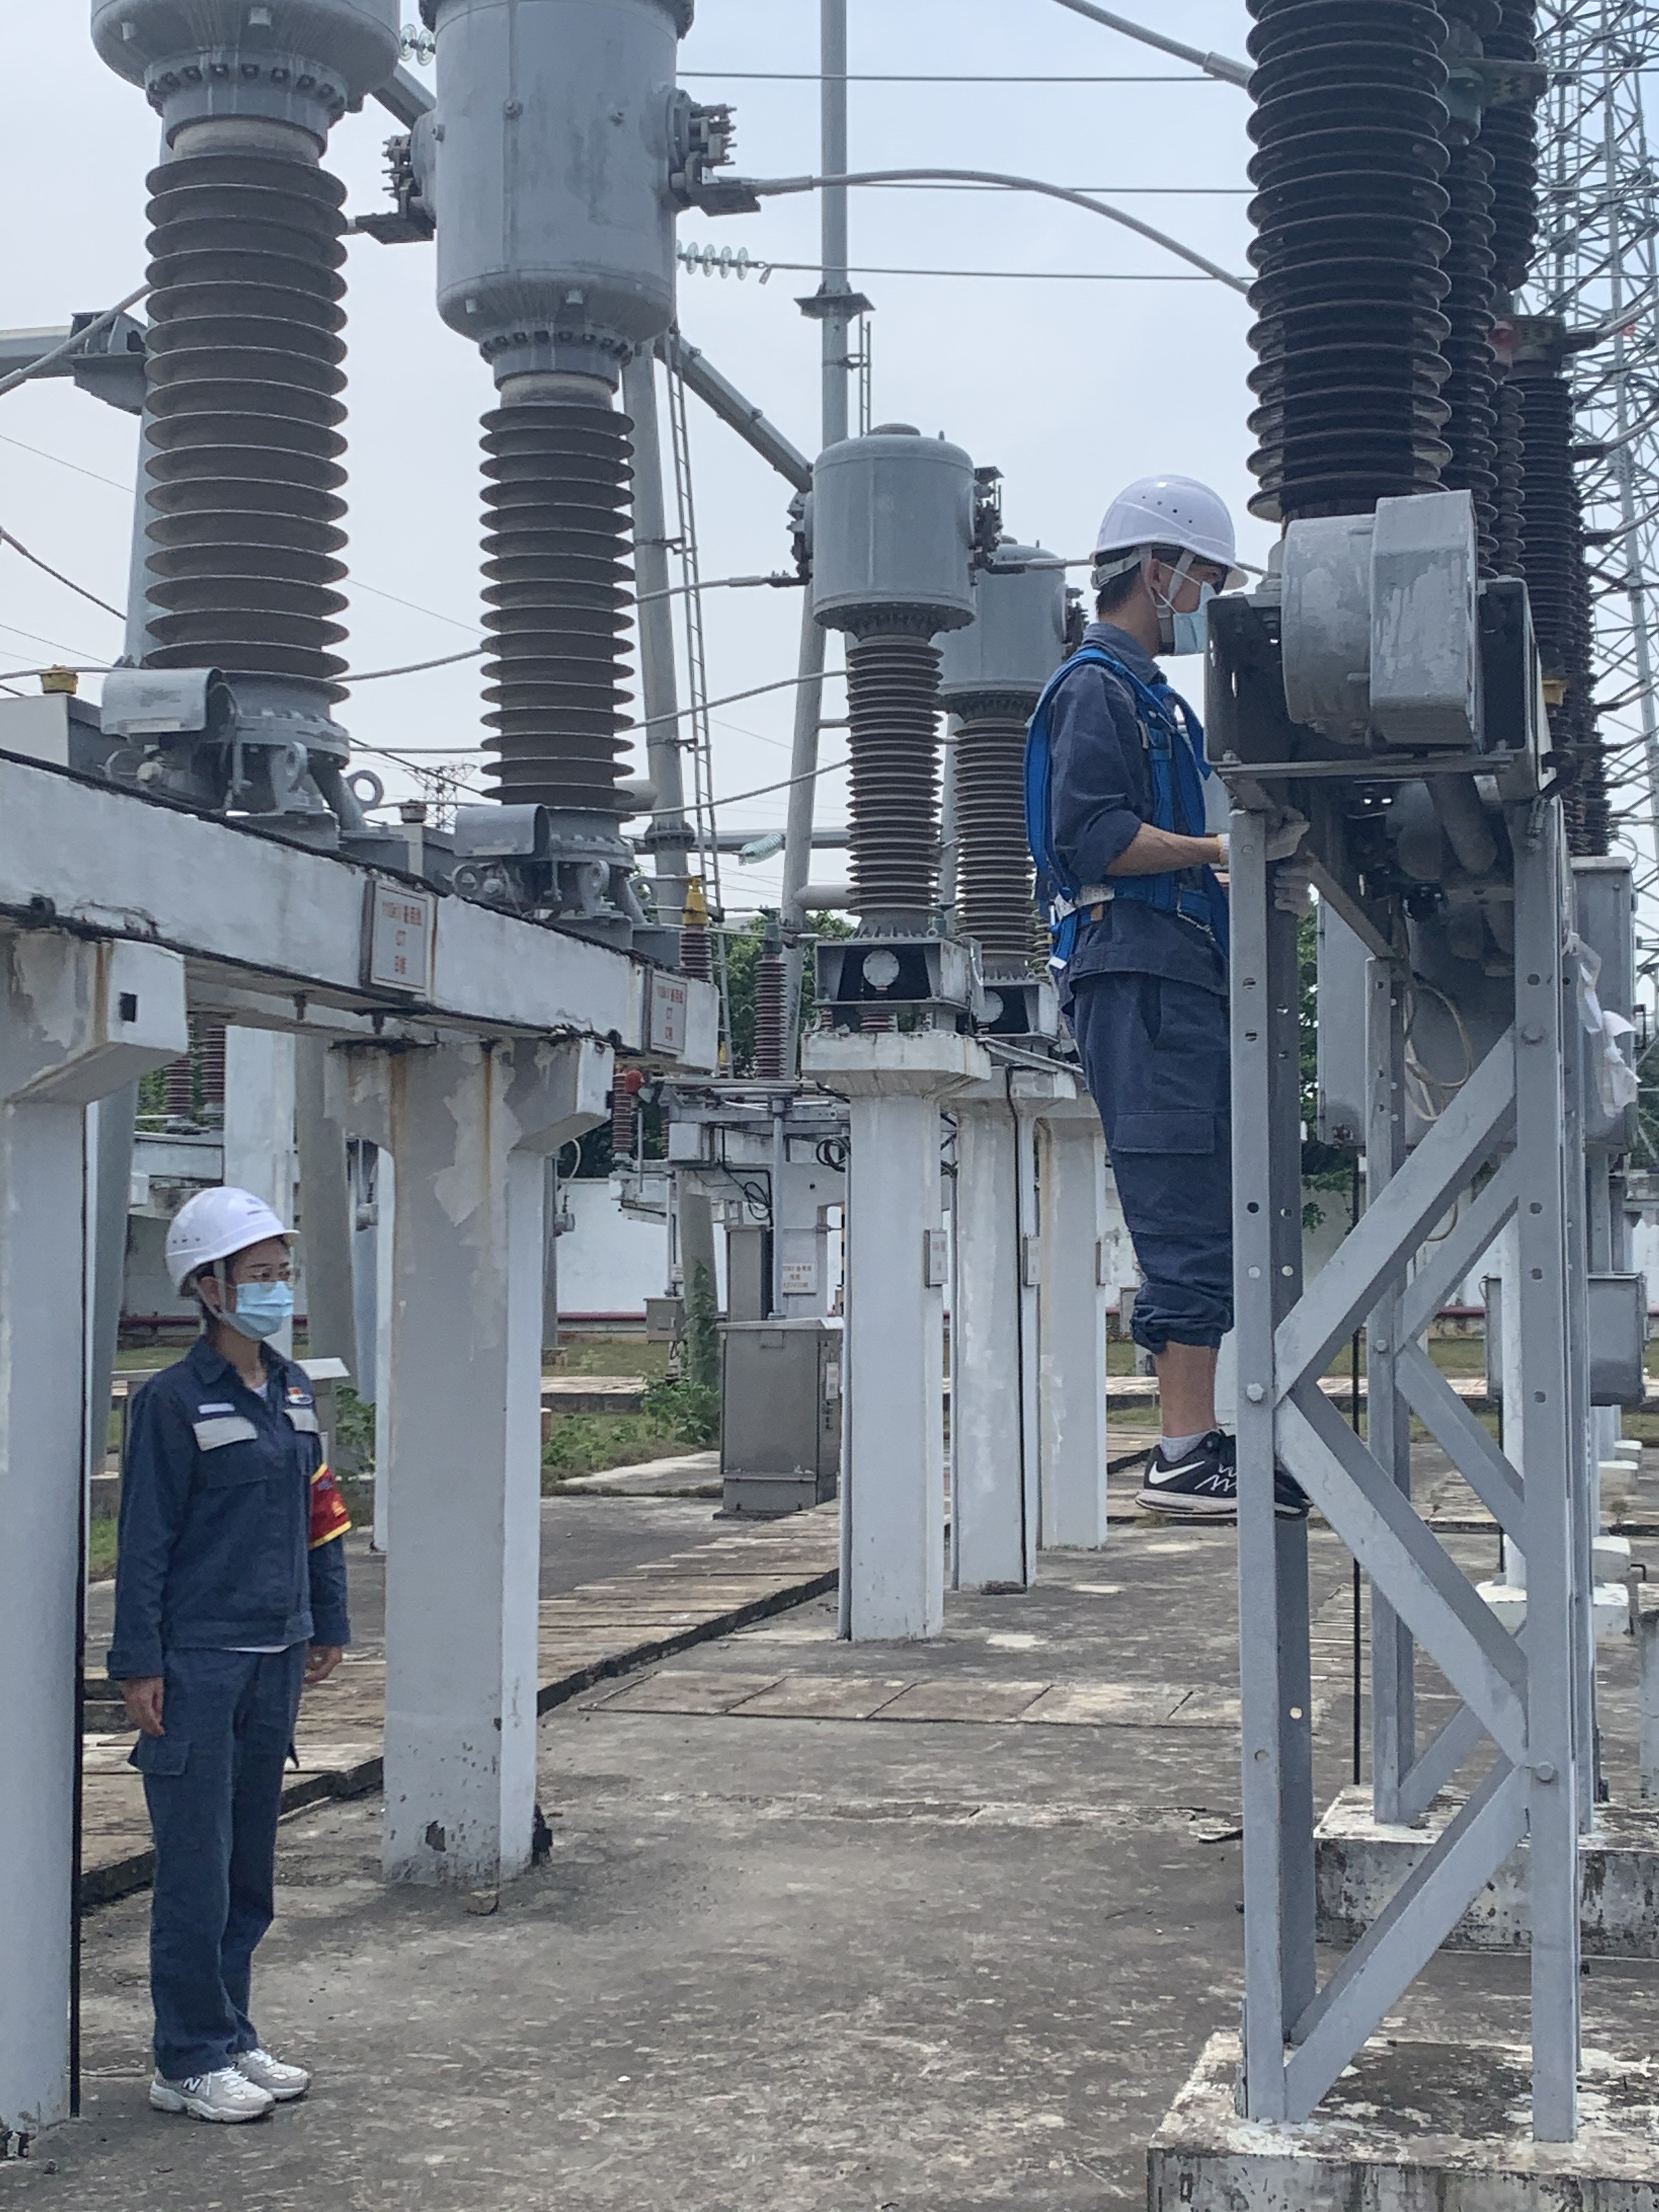downsuit: (146, 1681, 305, 2083), (1082, 982, 1241, 1343)
upsuit: (124, 1336, 350, 1667), (1044, 648, 1249, 981)
wrongbottom: (1134, 1299, 1239, 1496)
wrongtop: (1110, 813, 1244, 906)
